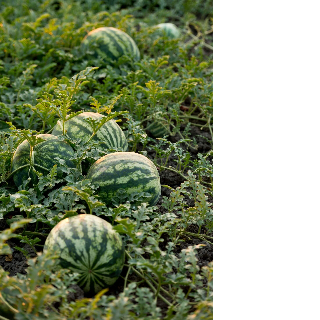dua_hau: (39, 210, 128, 295), (85, 151, 164, 216), (49, 109, 131, 164), (79, 24, 142, 74)
